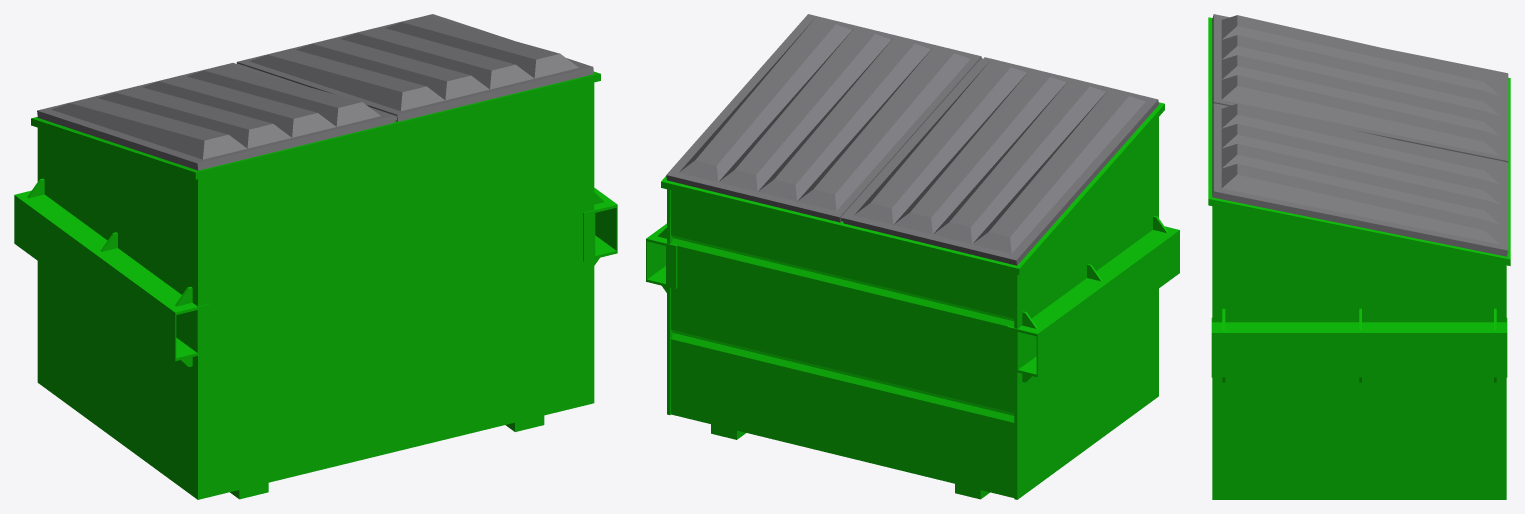
Rendered from Dumpster.fbx.
3 renders of one model, left to right at view 1: azimuth 30°, elevation 25°; view 2: azimuth 150°, elevation 25°; view 3: azimuth 270°, elevation 25°, orthographic. The views are drawn at different scales.
Visible parts, largest first — view 1: Container, Lid, SideThingys, Feet; view 2: Container, Lid, SideThingys, Feet; view 3: Container, Lid, SideThingys.
Boxes of the visible parts, <box> form: Container: <box>31,71,600,499</box>; Lid: <box>37,14,593,170</box>; SideThingys: <box>14,178,617,366</box>; Feet: <box>230,415,544,499</box>; Container: <box>661,102,1164,499</box>; Lid: <box>666,14,1158,265</box>; SideThingys: <box>646,215,1179,382</box>; Feet: <box>711,424,989,499</box>; Container: <box>1208,17,1510,499</box>; Lid: <box>1212,14,1508,256</box>; SideThingys: <box>1211,308,1507,382</box>.
Bounding box in the file's own units: 271 × 210 × 175.
